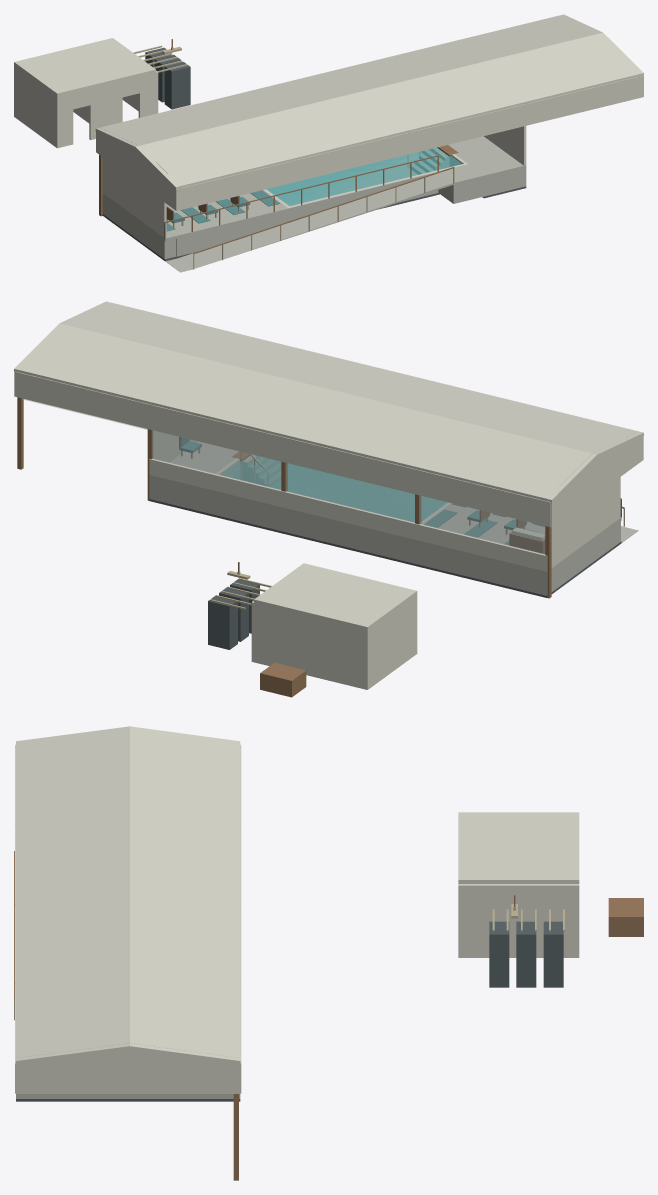
The model's file is VIP_TIDAL_FITTED_r008.glb.
3 renders of one model, top to bottom at view 1: azimuth 30°, elevation 25°; view 2: azimuth 150°, elevation 25°; view 3: azimuth 270°, elevation 25°, orthographic. The views are drawn at different scales.
Visible parts, largest first — view 1: F008__G2VIP_TIDAL_RoofPanel1, F008__G2VIP_TIDAL_RoofPanel0, TIDAL_F008_Weather_Aft, F008__G2VIP_TIDAL_ArrivalRamp, F008__G2VIP_TIDAL_Water_Illustrative, TIDAL_F008_TerraceAftMiddle, TIDAL_F008_TerraceWest, TIDAL_F008_TerraceEast, TIDAL_F008_ChangingRoof0, TIDAL_F008_ChangingSide0, F008__G2VIP_TIDAL_InnerWall, TIDAL_F008_ChangingRoof1 (+15 smaller); view 2: F008__G2VIP_TIDAL_RoofPanel0, F008__G2VIP_TIDAL_RoofPanel1, TIDAL_F008_Weather_Fore, TIDAL_F008_ForeClerestoryWet, TIDAL_F008_TerraceFore, TIDAL_F008_ForePlinth, F008__G2VIP_TIDAL_Water_Illustrative, TIDAL_F008_ChangingBack0, TIDAL_F008_ChangingBack1, TIDAL_F008_ChangingRoof0, TIDAL_F008_ChangingRoof1, TIDAL_F008_TerraceWest (+10 smaller); view 3: F008__G2VIP_TIDAL_RoofPanel1, F008__G2VIP_TIDAL_RoofPanel0, TIDAL_F008_PlantPartition, TIDAL_F008_ChangingRoof1, TIDAL_F008_Weather_Side1Aft, TIDAL_F008_ChangingRoof0, TIDAL_F008_Weather_Side1Fore, F008__G2VIP_TIDAL_ServiceCounter, F008__G2VIP_TIDAL_TreatmentCabinet2, F008__G2VIP_TIDAL_TreatmentCabinet0, F008__G2VIP_TIDAL_TreatmentCabinet1, TIDAL_F008_TerraceEast (+3 smaller).
Part boxes in pixels (bbox=[...]): F008__G2VIP_TIDAL_RoofPanel1: bbox=[140, 33, 639, 187]; F008__G2VIP_TIDAL_RoofPanel0: bbox=[100, 15, 598, 145]; TIDAL_F008_Weather_Aft: bbox=[176, 75, 643, 210]; F008__G2VIP_TIDAL_ArrivalRamp: bbox=[178, 173, 453, 268]; F008__G2VIP_TIDAL_Water_Illustrative: bbox=[266, 147, 461, 205]; TIDAL_F008_TerraceAftMiddle: bbox=[176, 172, 438, 256]; TIDAL_F008_TerraceWest: bbox=[111, 190, 287, 259]; TIDAL_F008_TerraceEast: bbox=[448, 136, 526, 195]; TIDAL_F008_ChangingRoof0: bbox=[14, 50, 106, 96]; TIDAL_F008_ChangingSide0: bbox=[14, 66, 59, 148]; F008__G2VIP_TIDAL_InnerWall: bbox=[102, 157, 166, 237]; TIDAL_F008_ChangingRoof1: bbox=[64, 38, 155, 84]; F008__G2VIP_TIDAL_RoofPanel0: bbox=[19, 324, 591, 500]; F008__G2VIP_TIDAL_RoofPanel1: bbox=[65, 302, 638, 453]; TIDAL_F008_Weather_Fore: bbox=[14, 371, 550, 527]; TIDAL_F008_ForeClerestoryWet: bbox=[152, 430, 545, 554]; TIDAL_F008_TerraceFore: bbox=[149, 475, 559, 595]; TIDAL_F008_ForePlinth: bbox=[149, 458, 547, 571]; F008__G2VIP_TIDAL_Water_Illustrative: bbox=[221, 456, 447, 522]; TIDAL_F008_ChangingBack0: bbox=[311, 617, 368, 689]; TIDAL_F008_ChangingBack1: bbox=[254, 603, 310, 676]; TIDAL_F008_ChangingRoof0: bbox=[311, 577, 417, 630]; TIDAL_F008_ChangingRoof1: bbox=[254, 563, 359, 616]; TIDAL_F008_TerraceWest: bbox=[423, 503, 620, 586]; F008__G2VIP_TIDAL_RoofPanel1: bbox=[16, 729, 129, 1057]; F008__G2VIP_TIDAL_RoofPanel0: bbox=[130, 729, 240, 1057]; TIDAL_F008_PlantPartition: bbox=[458, 884, 579, 957]; TIDAL_F008_ChangingRoof1: bbox=[458, 846, 579, 883]; TIDAL_F008_Weather_Side1Aft: bbox=[16, 1050, 129, 1093]; TIDAL_F008_ChangingRoof0: bbox=[458, 812, 579, 845]; TIDAL_F008_Weather_Side1Fore: bbox=[130, 1050, 240, 1093]; F008__G2VIP_TIDAL_ServiceCounter: bbox=[608, 898, 643, 936]; F008__G2VIP_TIDAL_TreatmentCabinet2: bbox=[489, 921, 509, 987]; F008__G2VIP_TIDAL_TreatmentCabinet0: bbox=[543, 921, 563, 987]; F008__G2VIP_TIDAL_TreatmentCabinet1: bbox=[516, 921, 536, 987]; TIDAL_F008_TerraceEast: bbox=[16, 1094, 209, 1098].
Size of the model in its own units: 32.2 by 6.4 by 26.81.
